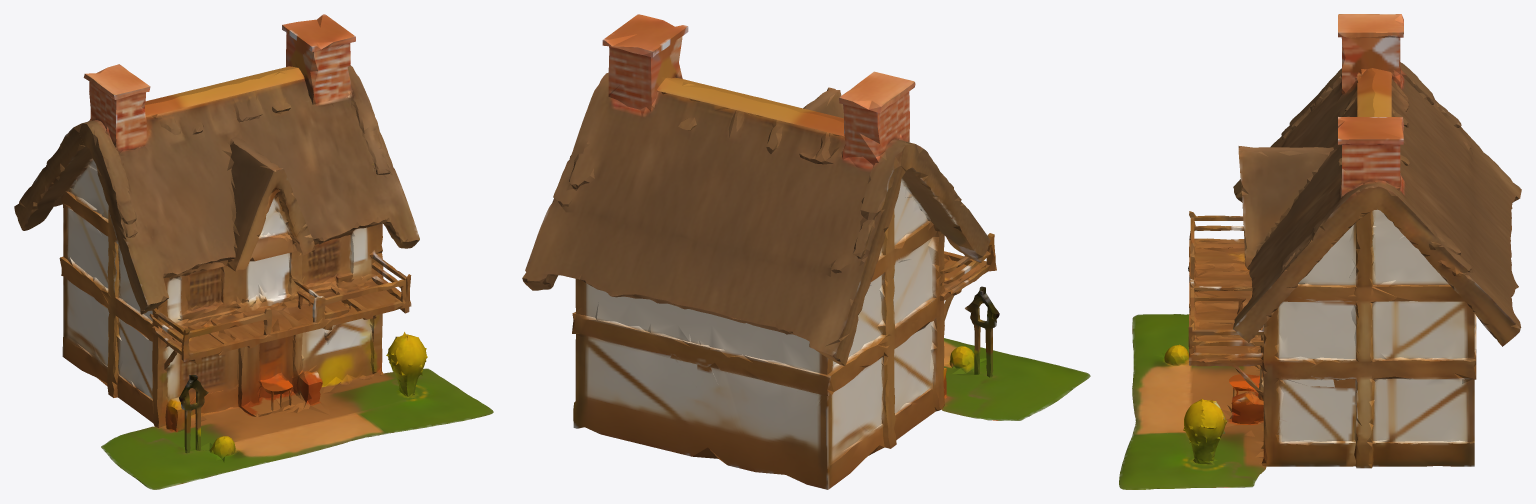
Rendered from tavern.glb.
The picture shows the model from 3 angles, left to right: view 1: azimuth 30°, elevation 25°; view 2: azimuth 150°, elevation 25°; view 3: azimuth 270°, elevation 25°; orthographic projection. The views are drawn at different scales.
Visible parts, largest first — view 1: Tavern; view 2: Tavern; view 3: Tavern.
Boxes of the visible parts, <box> form: Tavern: <box>14,14,493,489</box>; Tavern: <box>522,14,1090,489</box>; Tavern: <box>1119,14,1521,489</box>.
Size of the model in its own units: 1.78 by 1.57 by 1.73.
1 material, 1 textured.
